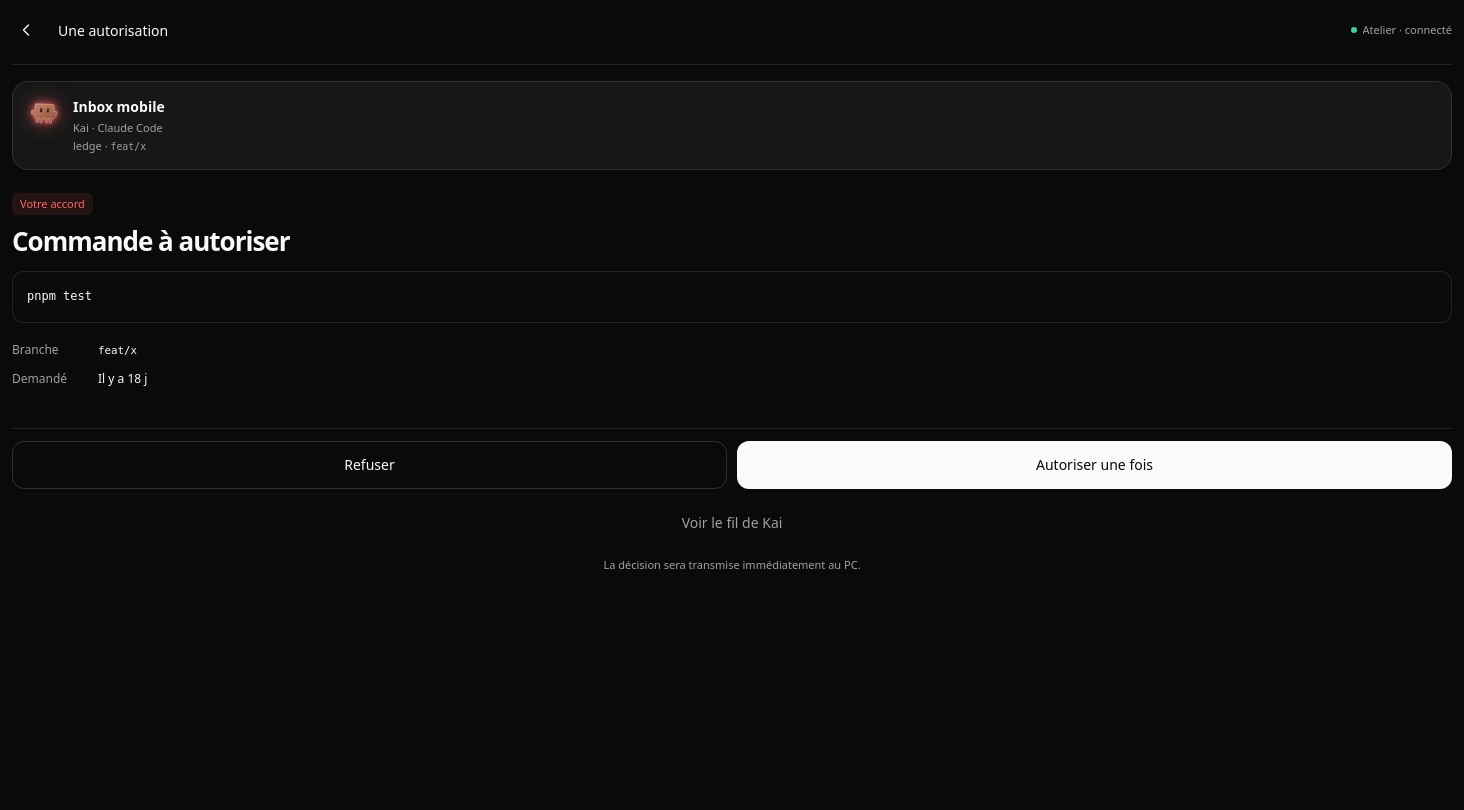
Test case: the decision footer › says so when the phone could not send the decision at all
Click the button "Autoriser une fois" at [1094, 465], box x1=737 y1=441 x2=1452 y2=489
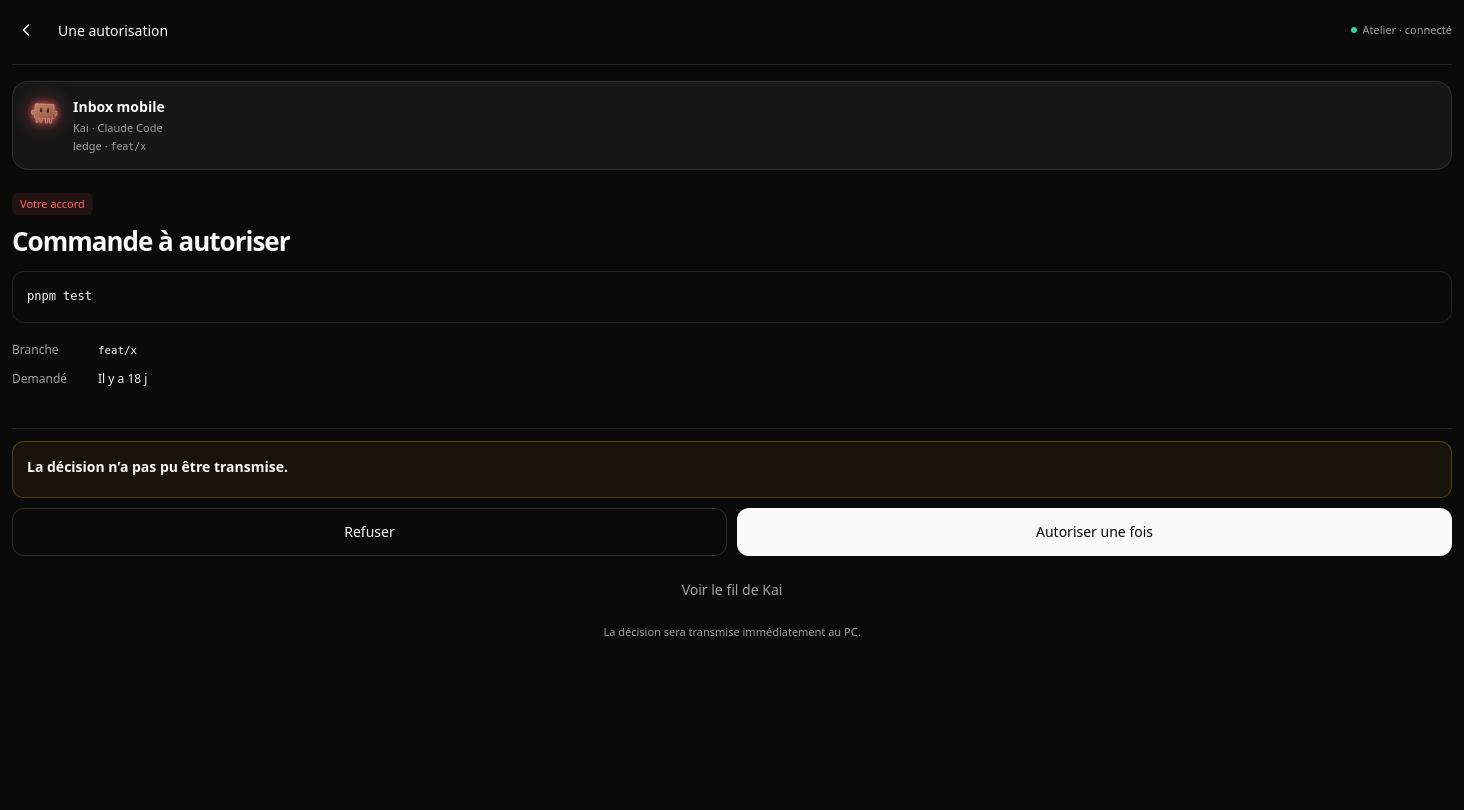
expect the message reads "La décision n’a pas pu être transmise.": met, box x1=27 y1=457 x2=288 y2=476
